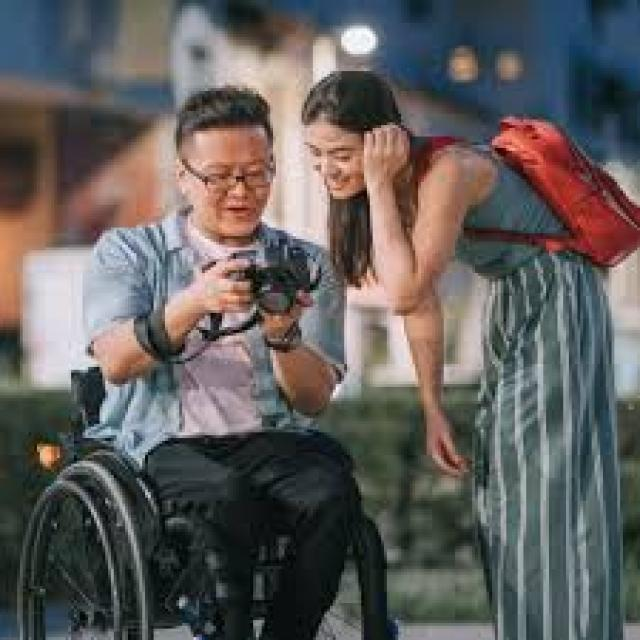wheelchairs: (17, 361, 407, 640)
